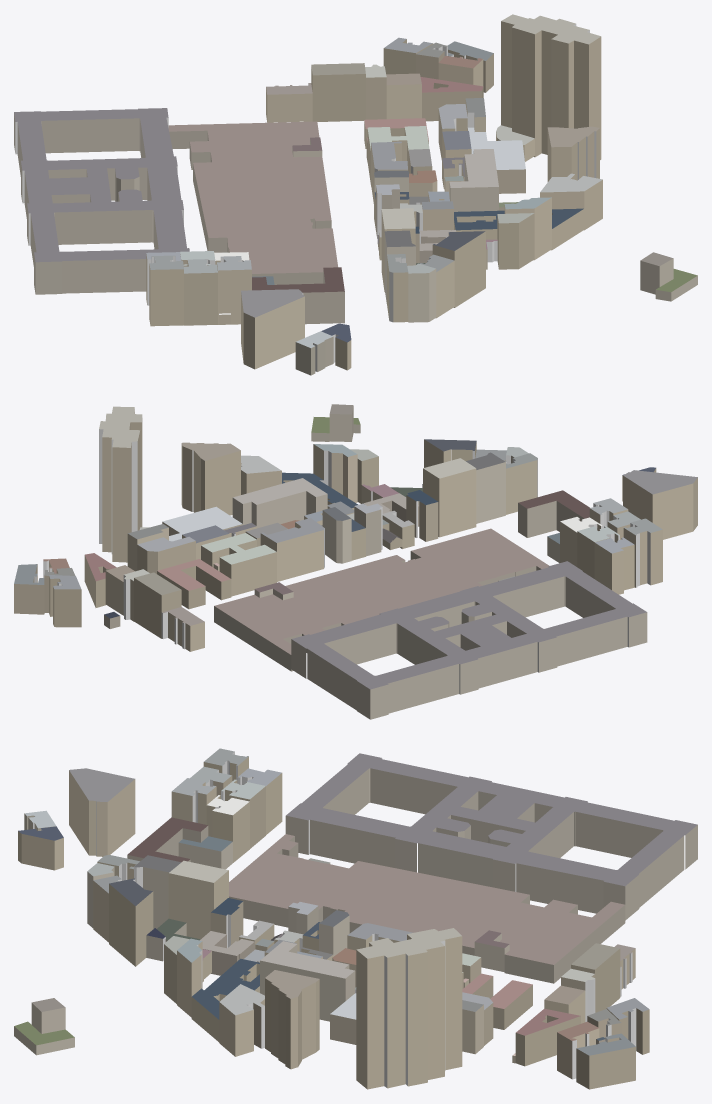
3 renders of one model, top to bottom at view 1: azimuth 30°, elevation 25°; view 2: azimuth 150°, elevation 25°; view 3: azimuth 270°, elevation 25°, orthographic. The views are drawn at different scales.
Visible parts, largest first — view 1: tuile; view 2: tuile; view 3: tuile.
Part boxes in pixels (box(x1,y1,x2,y2)): tuile: box(14, 14, 697, 375); tuile: box(14, 404, 697, 719); tuile: box(14, 748, 697, 1089).
Bounding box in the file's own units: 293 × 61.28 × 287.
